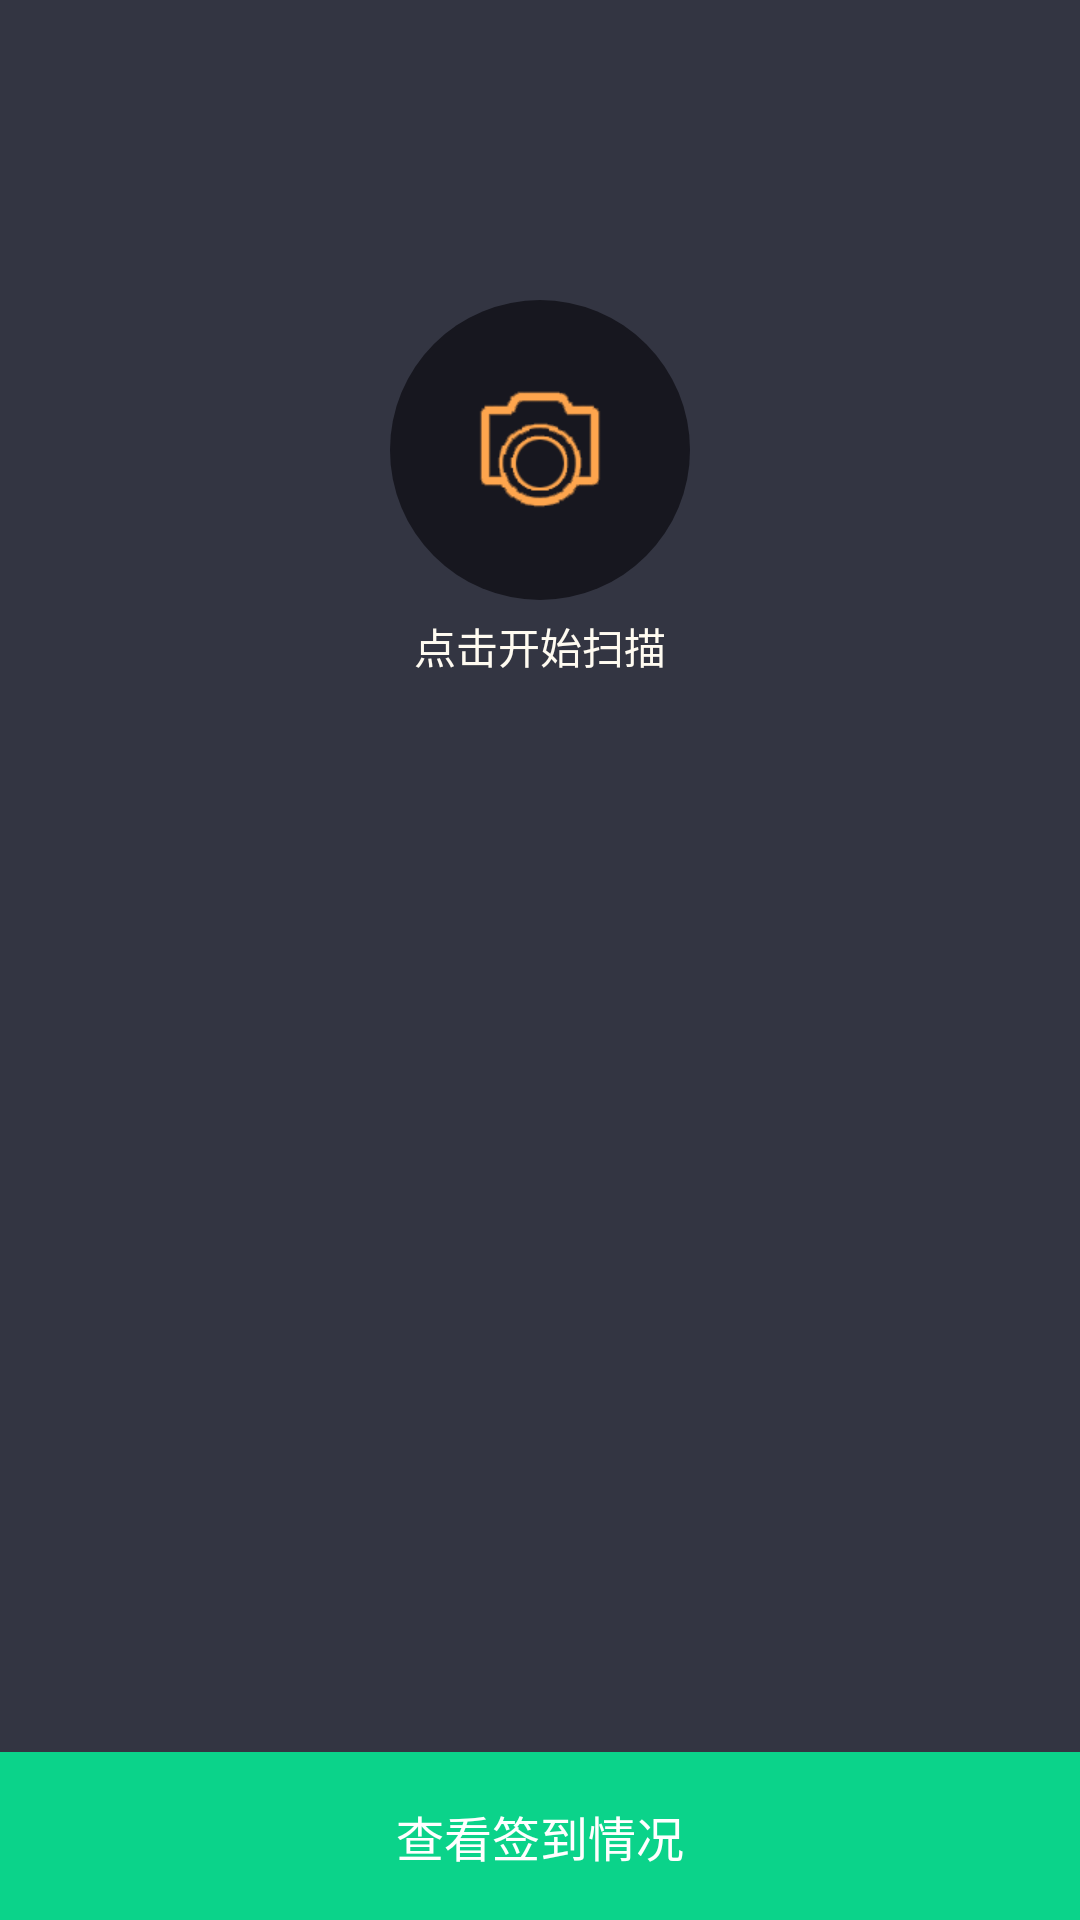

Icons on this 1080x1920 Android screen, each with its box as region(x1, y1, x2, y2):
camera: region(390, 300, 690, 600)
